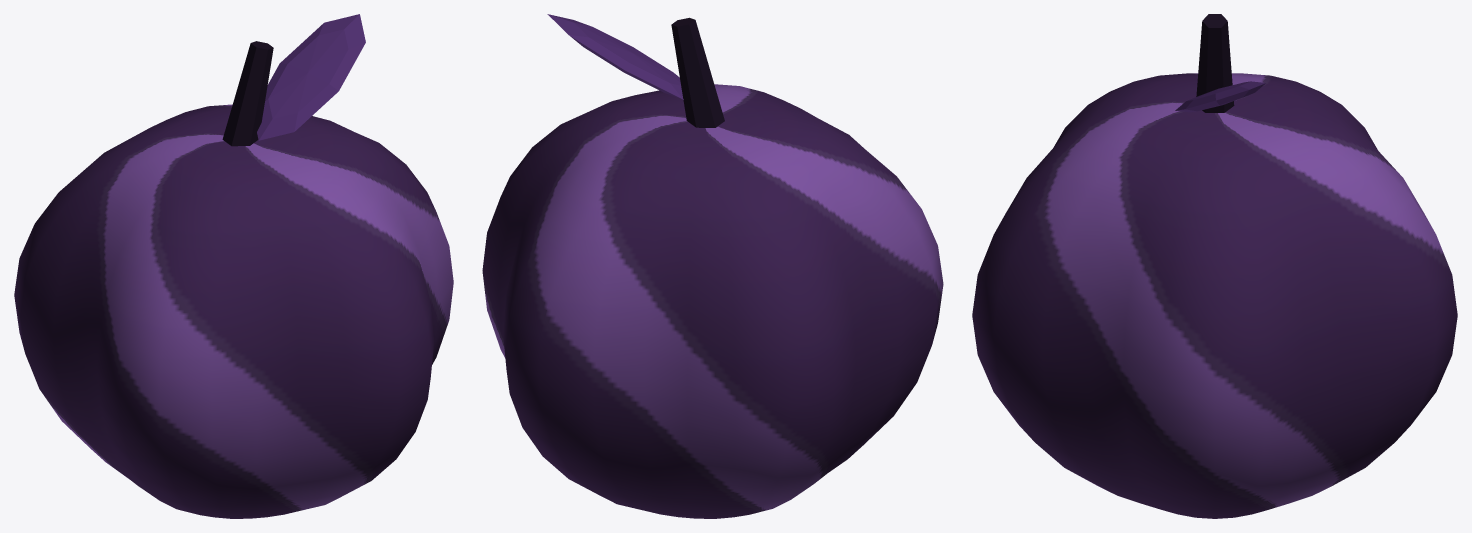
File: Fruit_YamiYami.fbx
The picture shows the model from 3 angles, left to right: view 1: azimuth 30°, elevation 25°; view 2: azimuth 150°, elevation 25°; view 3: azimuth 270°, elevation 25°; orthographic projection. The views are drawn at different scales.
Parts seen in each view (by area): view 1: Fruit_YamiYami; view 2: Fruit_YamiYami; view 3: Fruit_YamiYami.
Part boxes in pixels (x1,y1,x2,y2): Fruit_YamiYami: (14,14,453,518); Fruit_YamiYami: (482,14,943,518); Fruit_YamiYami: (972,14,1457,518).
Size of the model in its own units: 1.66 by 1.9 by 1.71.
Materials: 1 (1 with a texture image).
